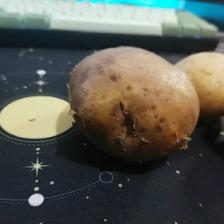Damaged potato: (70, 46, 200, 165)
Potato: (170, 52, 224, 115)
